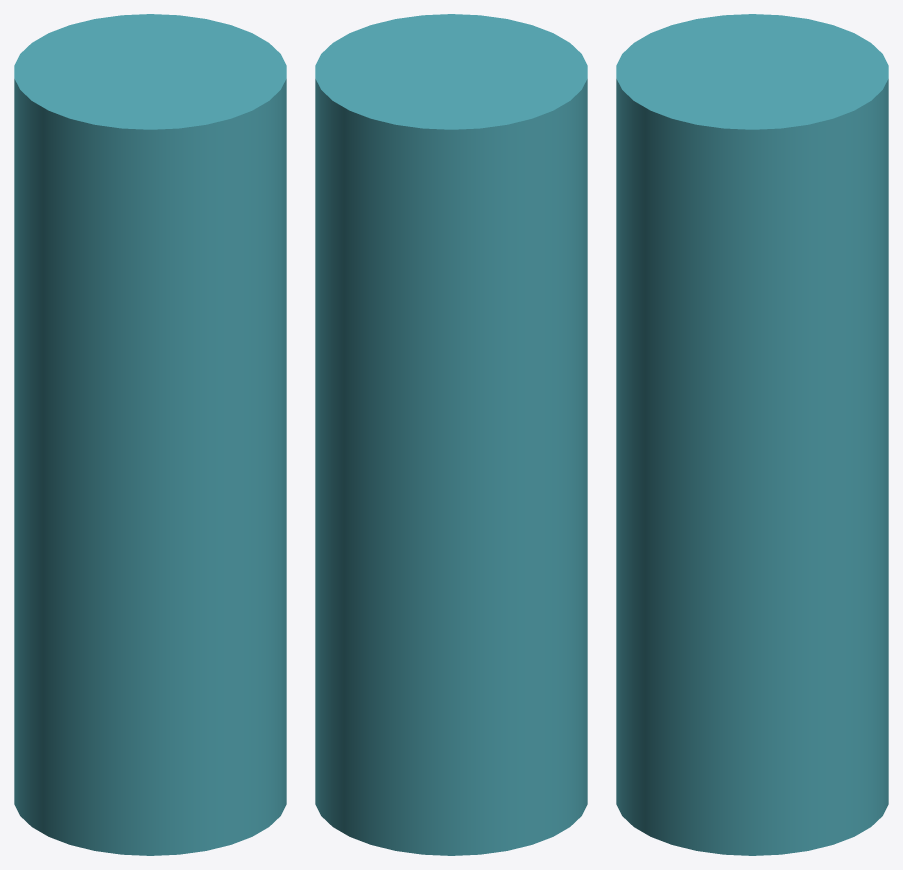
The model's file is Coolant.FBX.
3 renders of one model, left to right at view 1: azimuth 30°, elevation 25°; view 2: azimuth 150°, elevation 25°; view 3: azimuth 270°, elevation 25°, orthographic.
Parts seen in each view (by area): view 1: Coolant; view 2: Coolant; view 3: Coolant.
Part boxes in pixels (box(x1,y1,x2,y2)): Coolant: box(14, 14, 286, 855); Coolant: box(315, 14, 587, 855); Coolant: box(616, 14, 888, 855).
Bounding box in the file's own units: 200 × 585 × 199.
